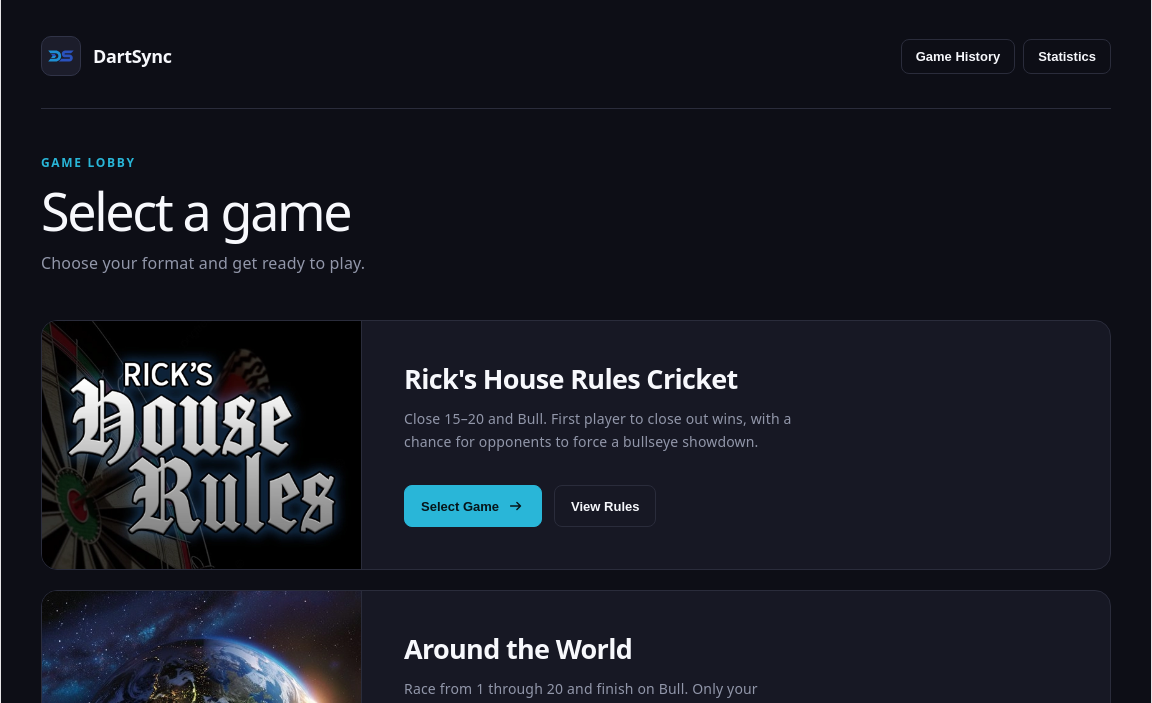
Test: DartSync scoring flow › opens player management from selection and preserves setup state
Expected: the button "Manage players" is not shown
Click the button "Select Game".
click(473, 506)  # box left=404, top=485, right=542, bottom=527
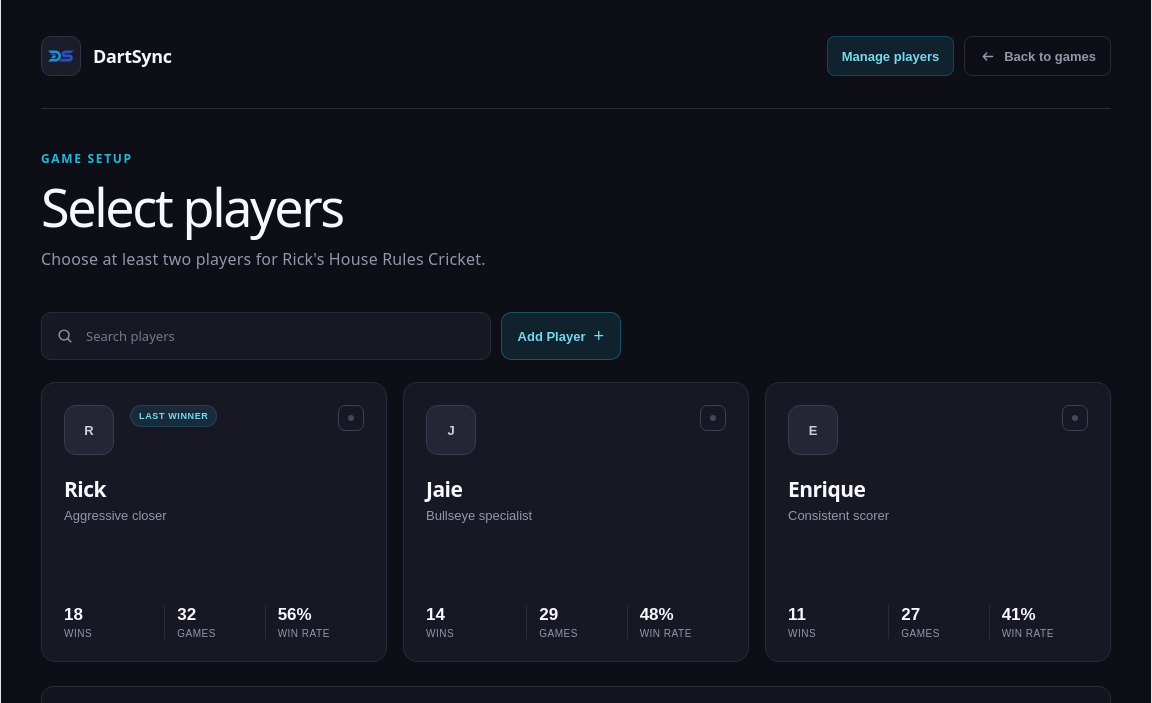
Click the button "Rick".
click(174, 416)  # box left=41, top=382, right=387, bottom=662
(page scrolled)
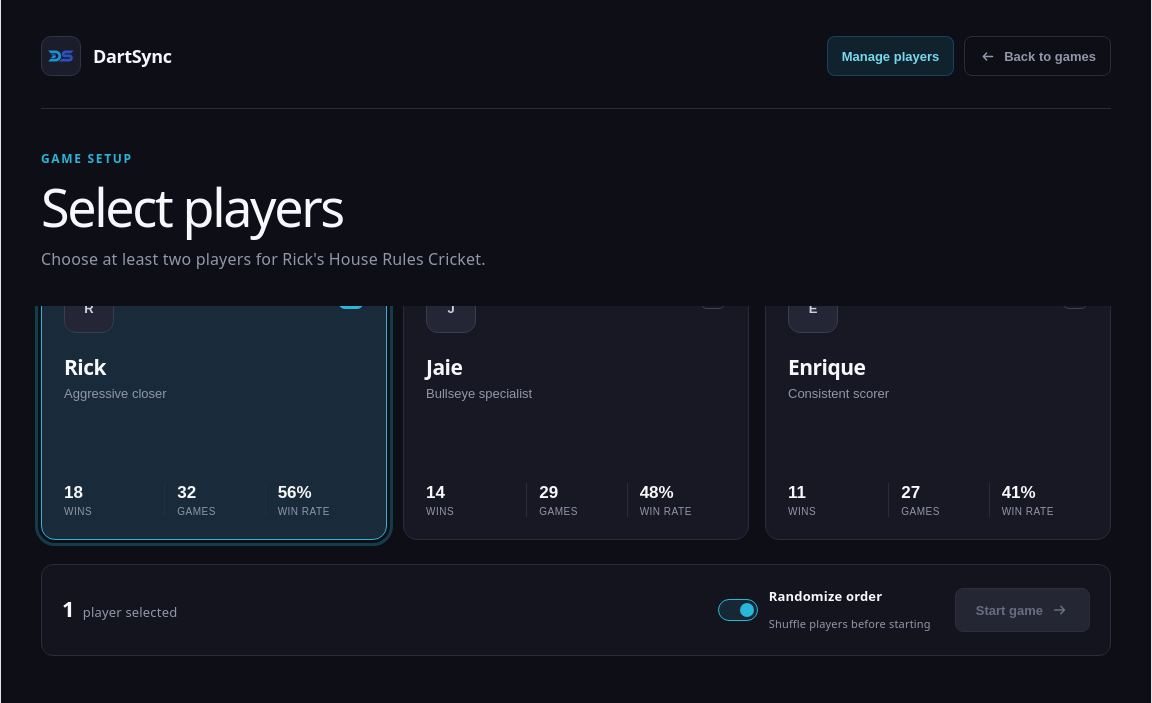
Click the checkbox labelled "Randomize order Shuffle players before starting".
click(738, 610)  # box left=718, top=583, right=931, bottom=638
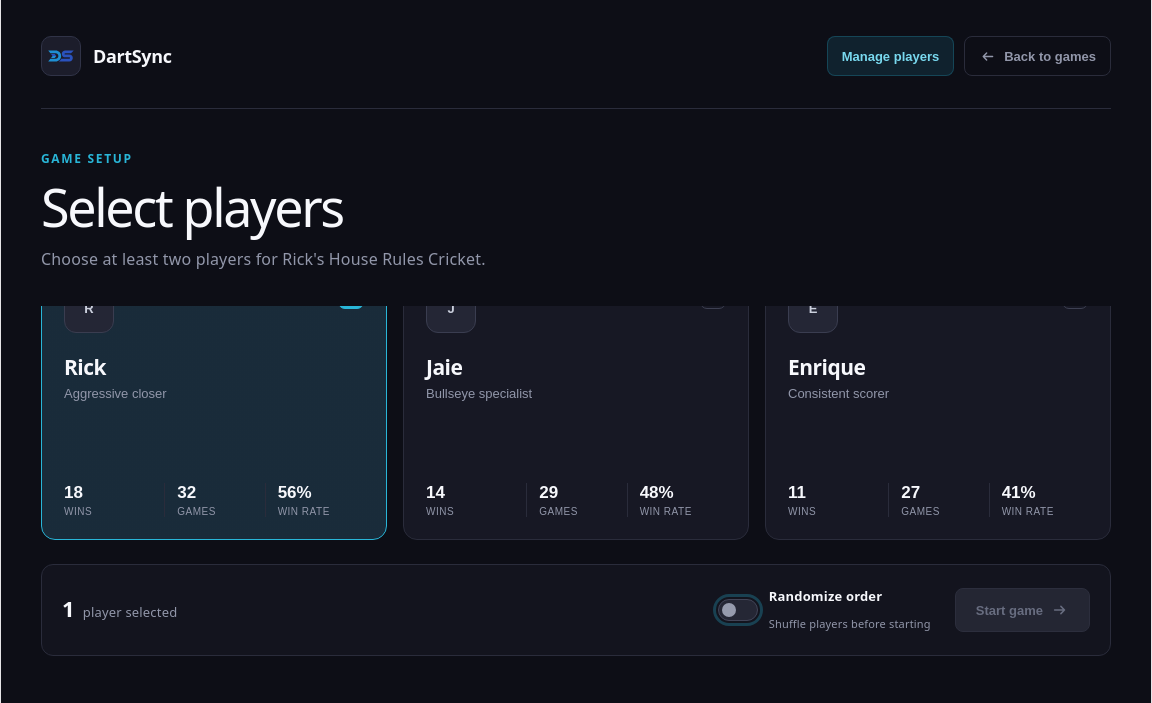
Click the button "Manage players".
click(890, 56)  # box left=827, top=36, right=954, bottom=76
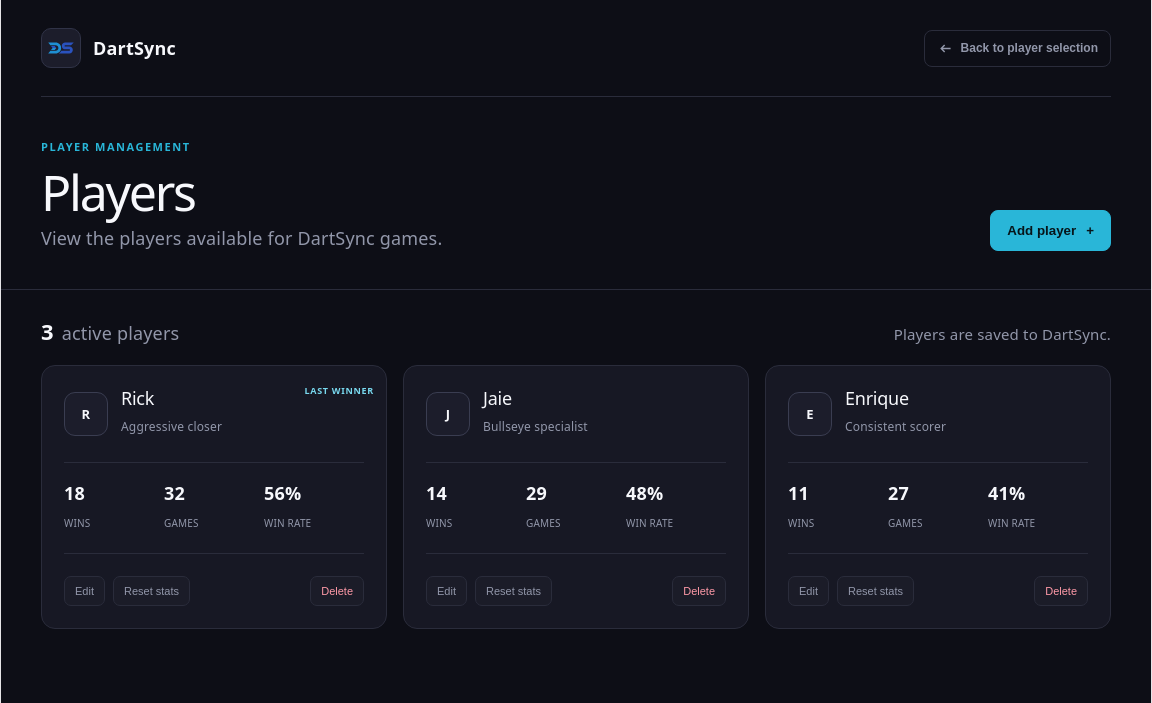
Result: the heading "Players" is shown at left=41, top=158, right=195, bottom=226
Result: the element labelled "3 active players" is shown at left=41, top=318, right=1111, bottom=347
Result: the button "Add player +" is enabled at left=990, top=210, right=1111, bottom=251
Click the button "Back to player selection".
click(1017, 48)  # box left=924, top=30, right=1111, bottom=66
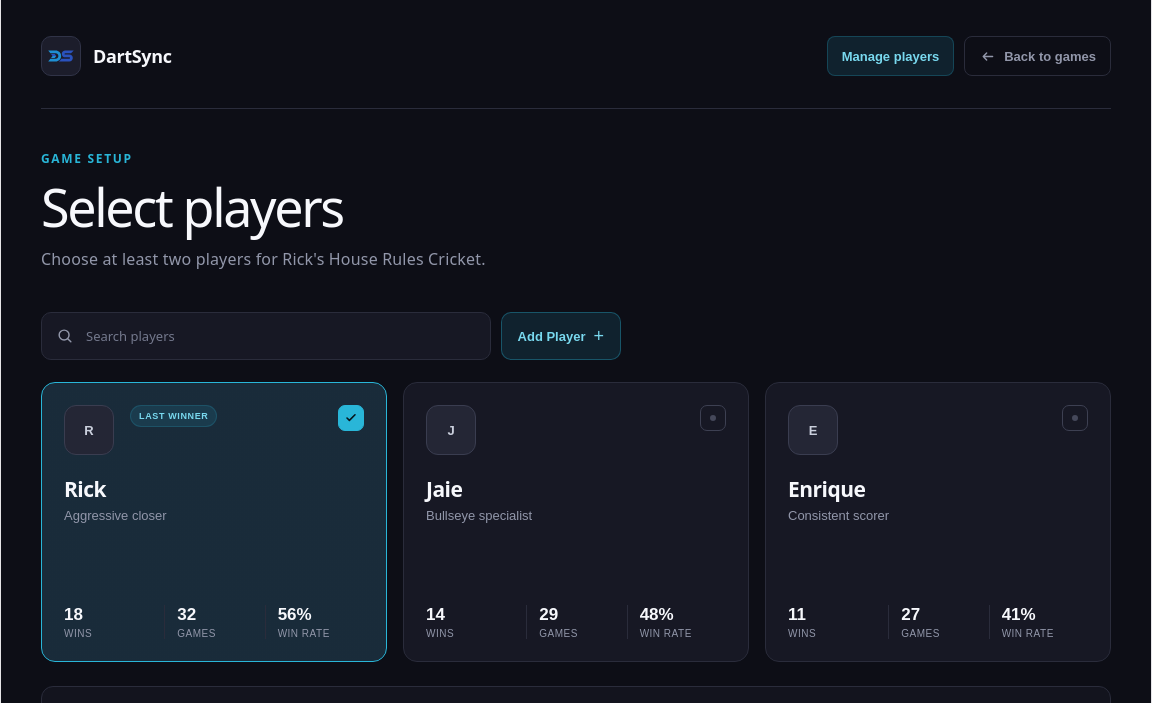
Result: the heading "Select players" is shown at left=41, top=171, right=343, bottom=242
